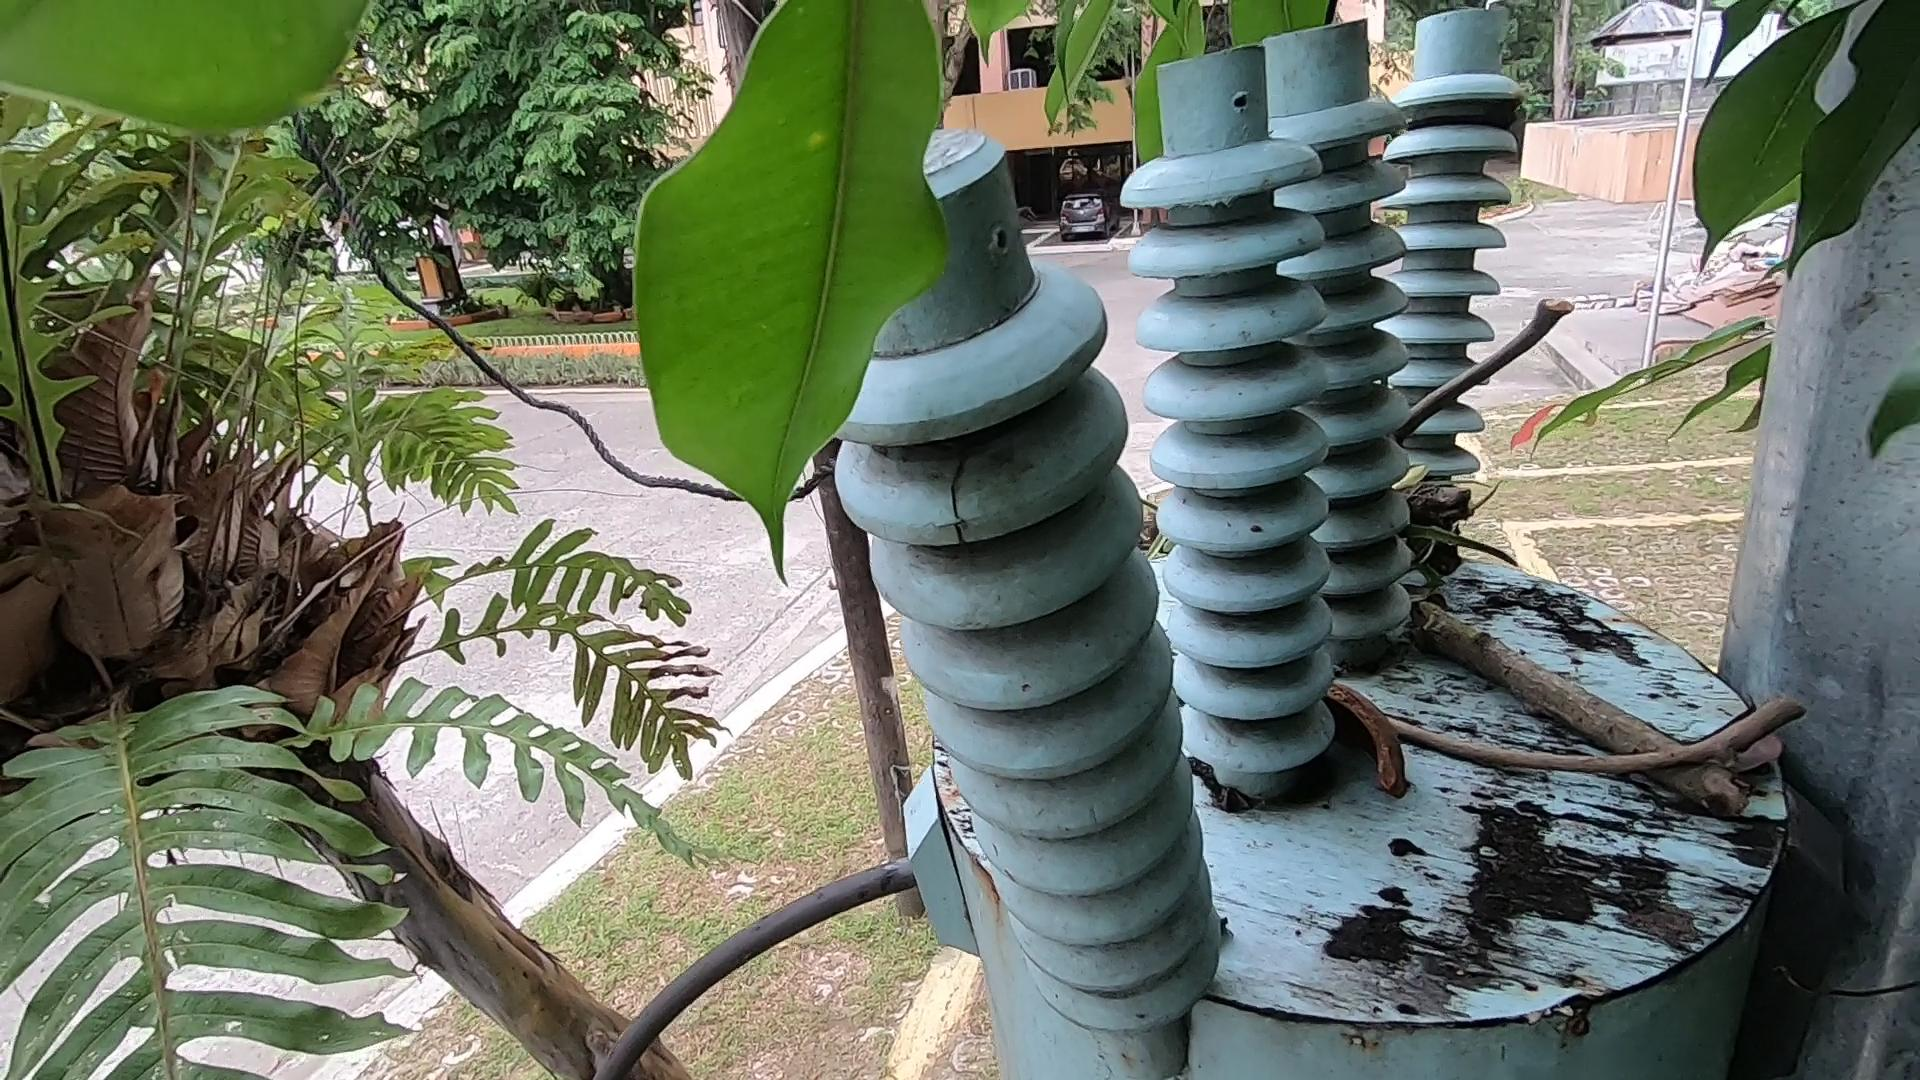branch with leaves: (1335, 541, 1801, 872)
leaf: (1704, 699, 1808, 808)
mahogany fruit: (1323, 651, 1416, 808)
tree branch: (1400, 248, 1585, 496), (1353, 709, 1836, 765)
